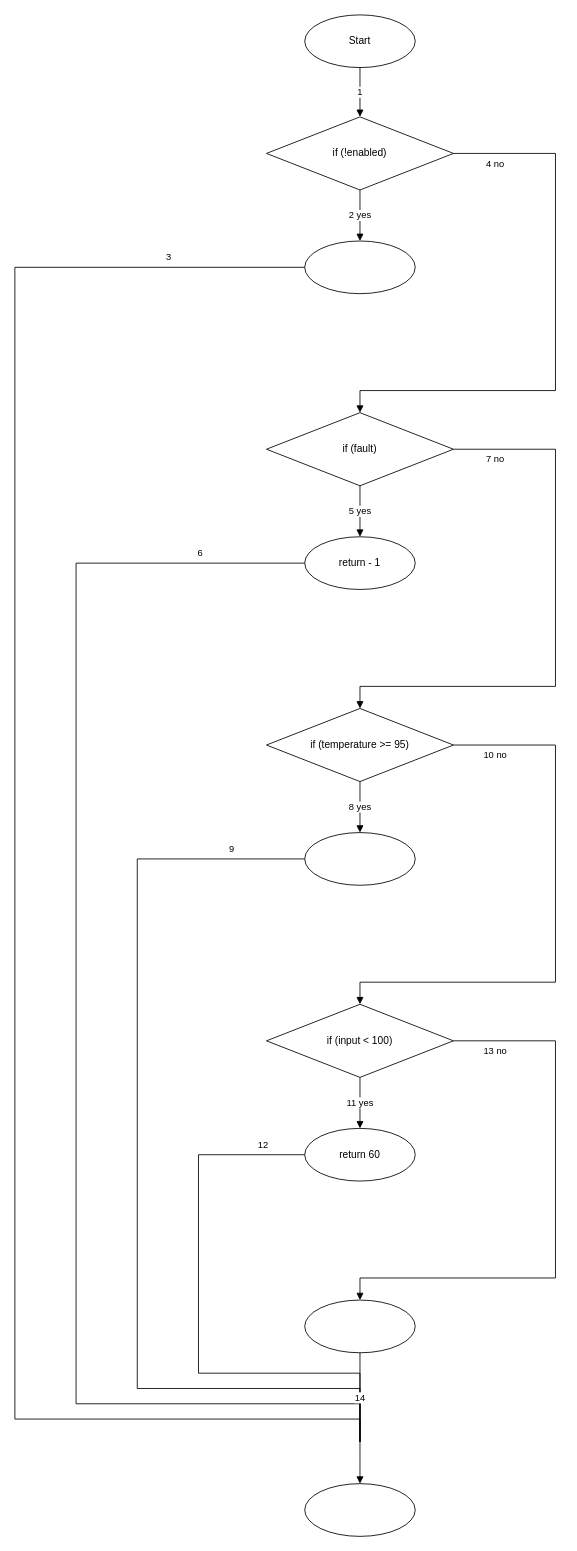
This 577x1551 diagram has some shape labels left out. Each missing label, with the box of its shape:
End: (304, 1483, 415, 1536)
return 0: (304, 240, 415, 294)
return 20: (304, 832, 415, 885)
return 200: (304, 1299, 415, 1353)
